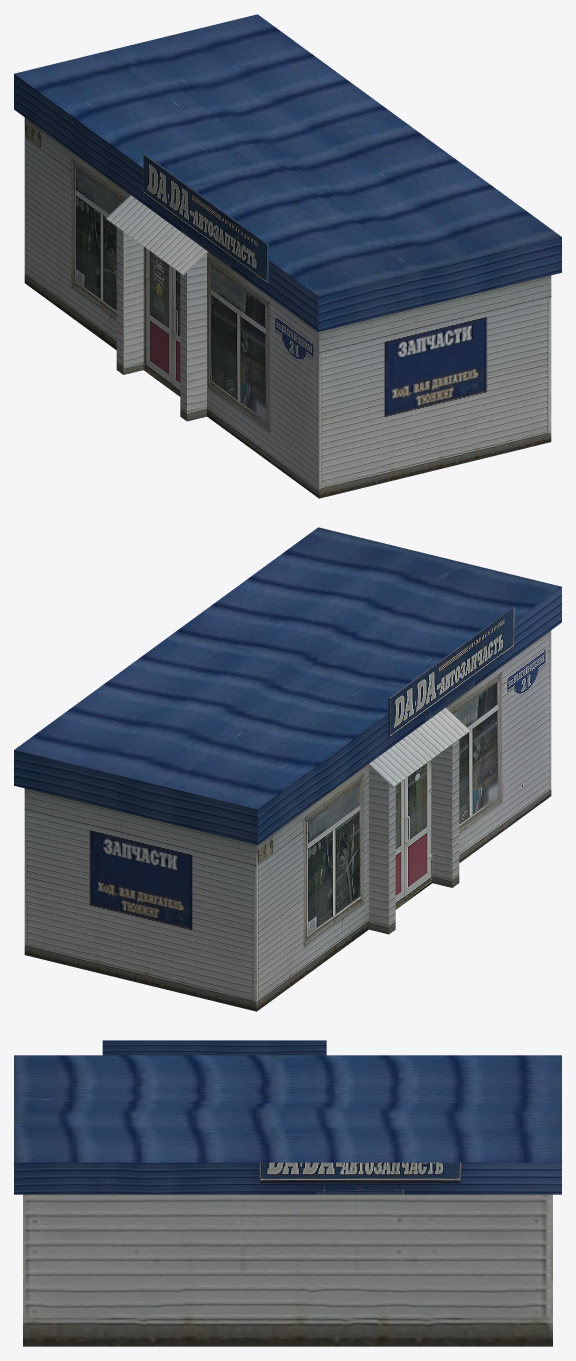
File: omsk_avtomagazin11.FBX
3 renders of one model, top to bottom at view 1: azimuth 30°, elevation 25°; view 2: azimuth 150°, elevation 25°; view 3: azimuth 270°, elevation 25°, orthographic. The views are drawn at different scales.
Visible parts, largest first — view 1: omsk_avtomagazin11; view 2: omsk_avtomagazin11; view 3: omsk_avtomagazin11.
Boxes of the visible parts, bbox=[...] form: omsk_avtomagazin11: bbox=[14, 14, 561, 498]; omsk_avtomagazin11: bbox=[14, 527, 561, 1011]; omsk_avtomagazin11: bbox=[14, 1040, 561, 1346].
Bounding box in the file's own units: 3.89 × 7.72 × 3.12.
